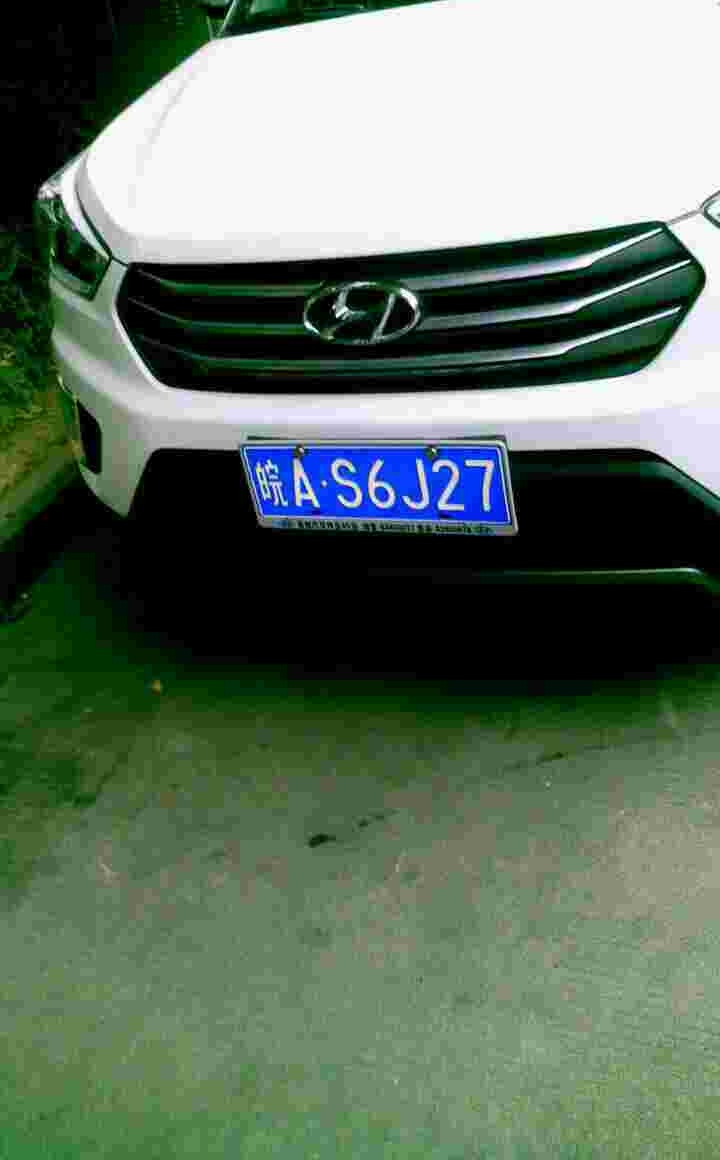plate: (242, 442, 517, 526)
